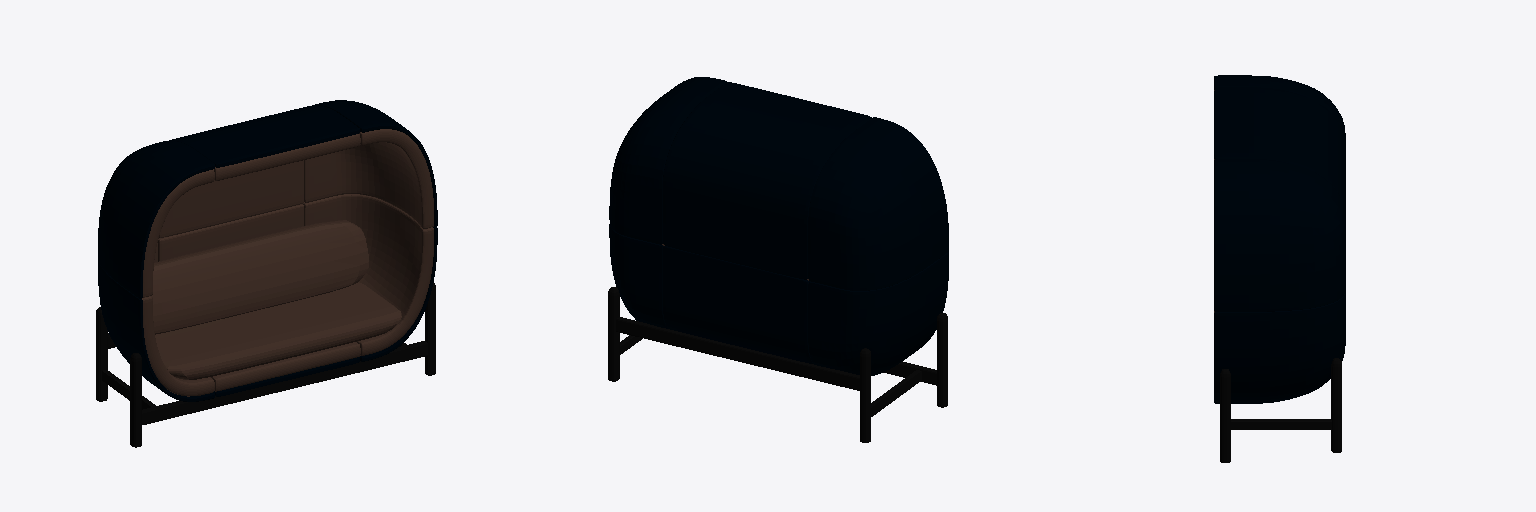
The model's file is 2seter_obj.obj.
The picture shows the model from 3 angles: view 1: azimuth 30°, elevation 25°; view 2: azimuth 150°, elevation 25°; view 3: azimuth 270°, elevation 25°; orthographic projection.
Visible parts, largest first — view 1: Pod_2-seter_Mesh_Cube.178; view 2: Pod_2-seter_Mesh_Cube.178; view 3: Pod_2-seter_Mesh_Cube.178.
Boxes of the visible parts, box(x1,y1,x2,y2) form: Pod_2-seter_Mesh_Cube.178: box(96, 100, 437, 447); Pod_2-seter_Mesh_Cube.178: box(608, 77, 948, 442); Pod_2-seter_Mesh_Cube.178: box(1214, 75, 1345, 462).
Bounding box in the file's own units: 3.3 × 2.77 × 1.24.